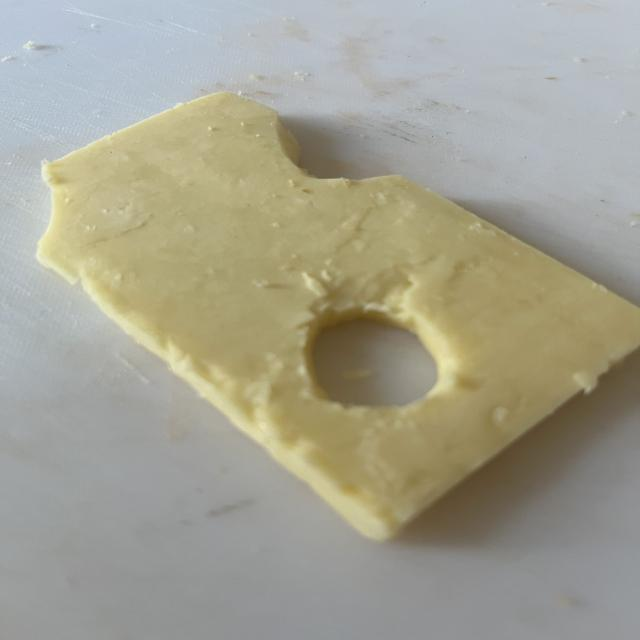cheese: (38, 93, 640, 540)
